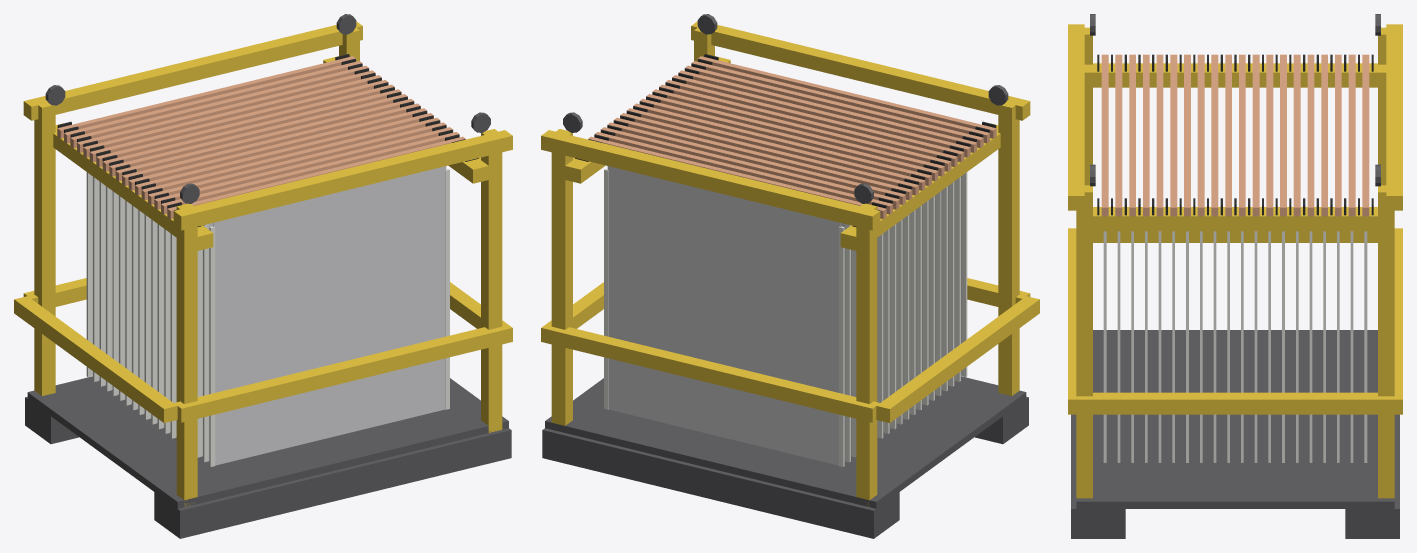
Rendered from SM_CathodeBlankCrate.fbx.
The picture shows the model from 3 angles, left to right: view 1: azimuth 30°, elevation 25°; view 2: azimuth 150°, elevation 25°; view 3: azimuth 270°, elevation 25°; orthographic projection. The views are drawn at different scales.
Parts seen in each view (by area): view 1: CBC_Blanks, CBC_Frame; view 2: CBC_Blanks, CBC_Frame; view 3: CBC_Frame, CBC_Blanks.
Boxes of the visible parts, bbox=[...] form: CBC_Blanks: bbox=[57, 56, 465, 466]; CBC_Frame: bbox=[14, 14, 512, 538]; CBC_Blanks: bbox=[588, 56, 996, 466]; CBC_Frame: bbox=[541, 14, 1039, 538]; CBC_Frame: bbox=[1068, 14, 1402, 538]; CBC_Blanks: bbox=[1101, 54, 1369, 462].
Size of the model in its own units: 154 by 146 by 122.
